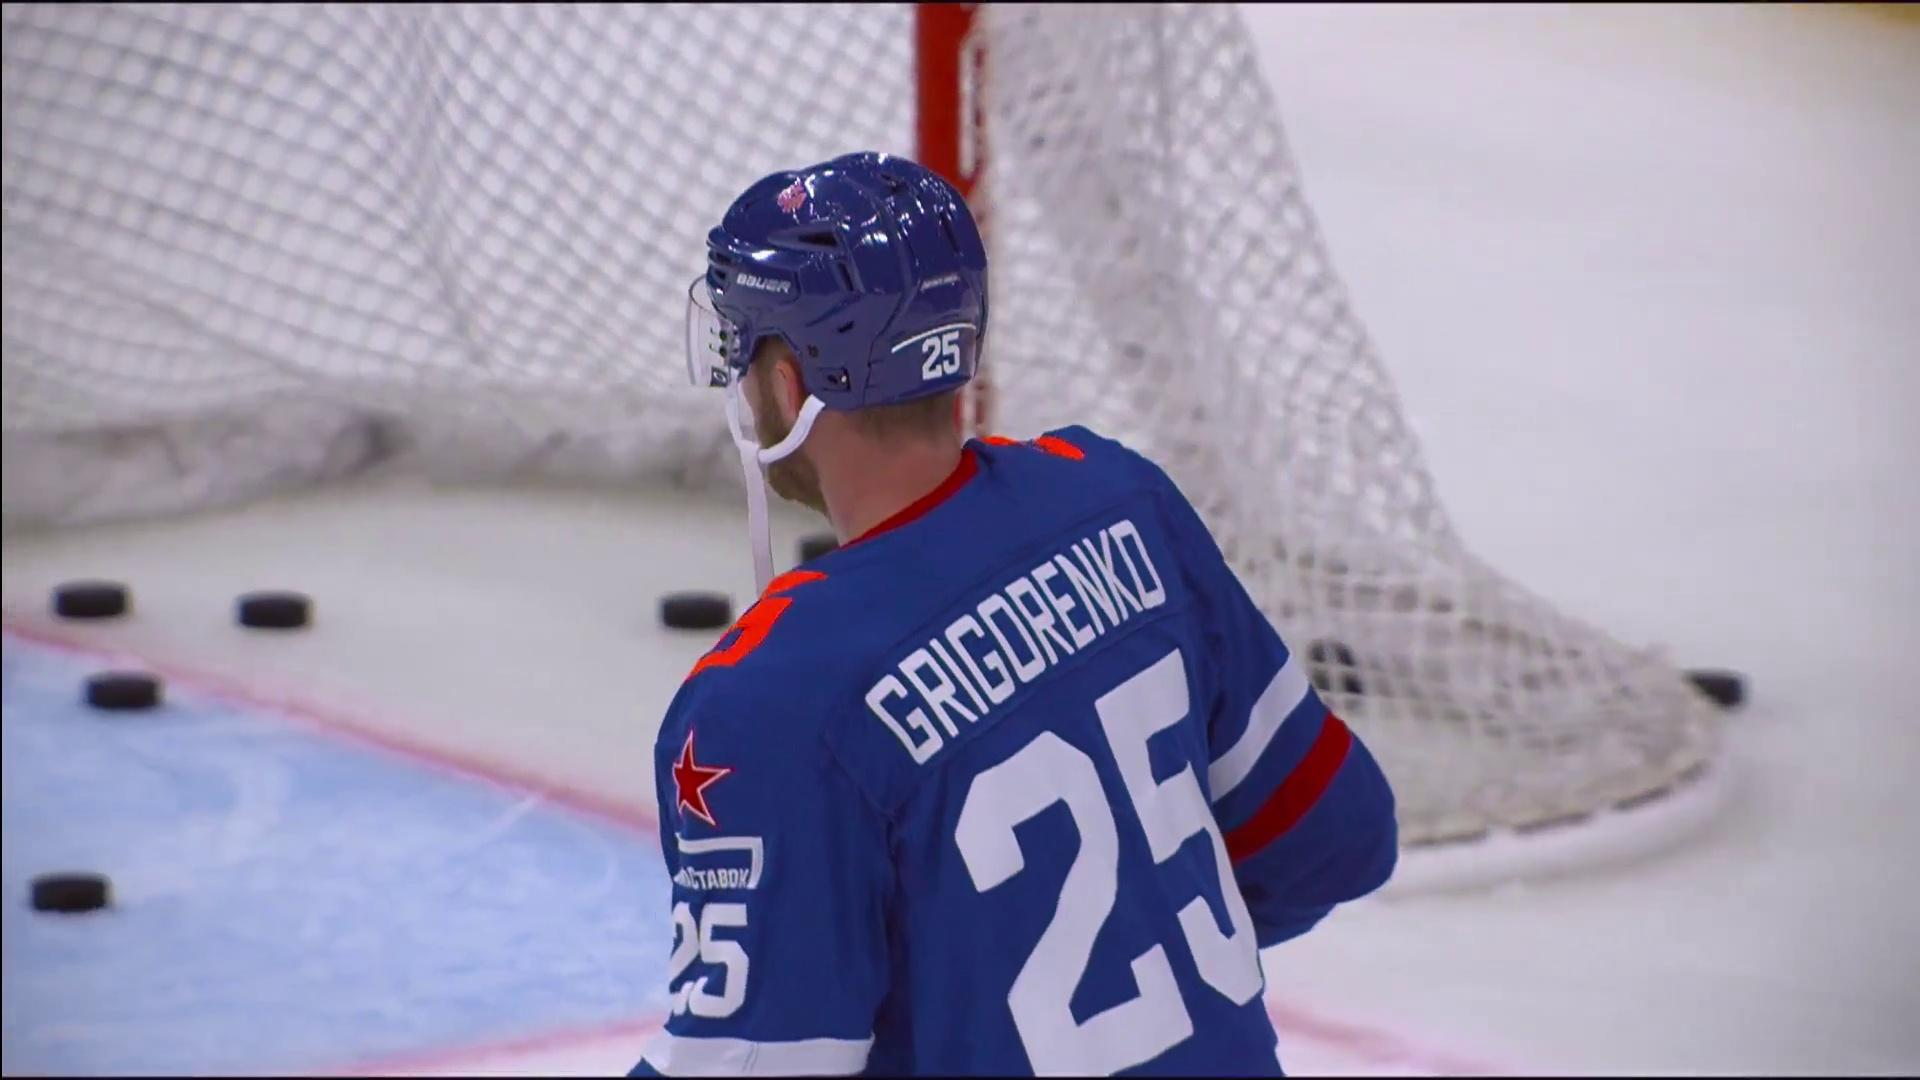ball: (655, 587, 740, 636), (1305, 637, 1364, 707), (87, 675, 160, 725), (32, 873, 120, 914), (236, 587, 315, 630), (51, 583, 131, 621), (1684, 667, 1754, 707)
